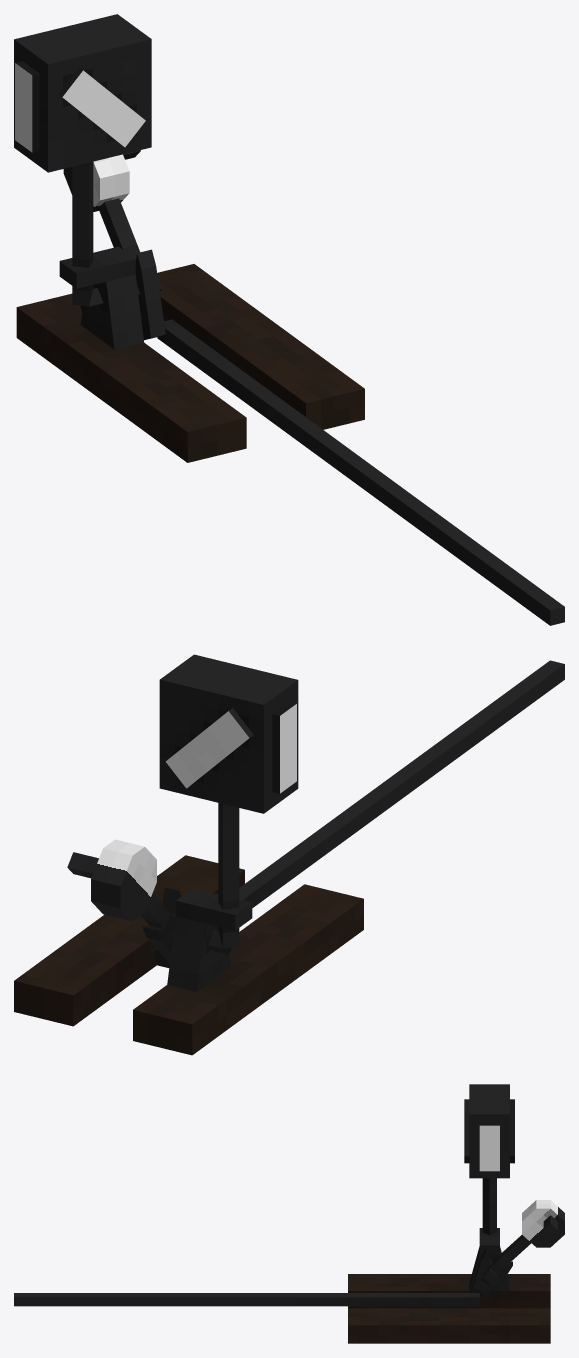
File: switch_right_off.obj
3 views of the same model, one above another, from view 1: azimuth 30°, elevation 25°; view 2: azimuth 150°, elevation 25°; view 3: azimuth 270°, elevation 25° (orthographic). The views are drawn at different scales.
Visible parts, largest first — view 1: base_RAIL_BASE.001; view 2: base_RAIL_BASE.001; view 3: base_RAIL_BASE.001.
Part boxes in pixels (x1,y1,x2,y2): base_RAIL_BASE.001: (14, 14, 564, 625); base_RAIL_BASE.001: (14, 654, 564, 1055); base_RAIL_BASE.001: (14, 1084, 564, 1343).
Bounding box in the file's own units: 0.9375 × 1.34 × 3.4.
Materials: 1 (1 with a texture image).
